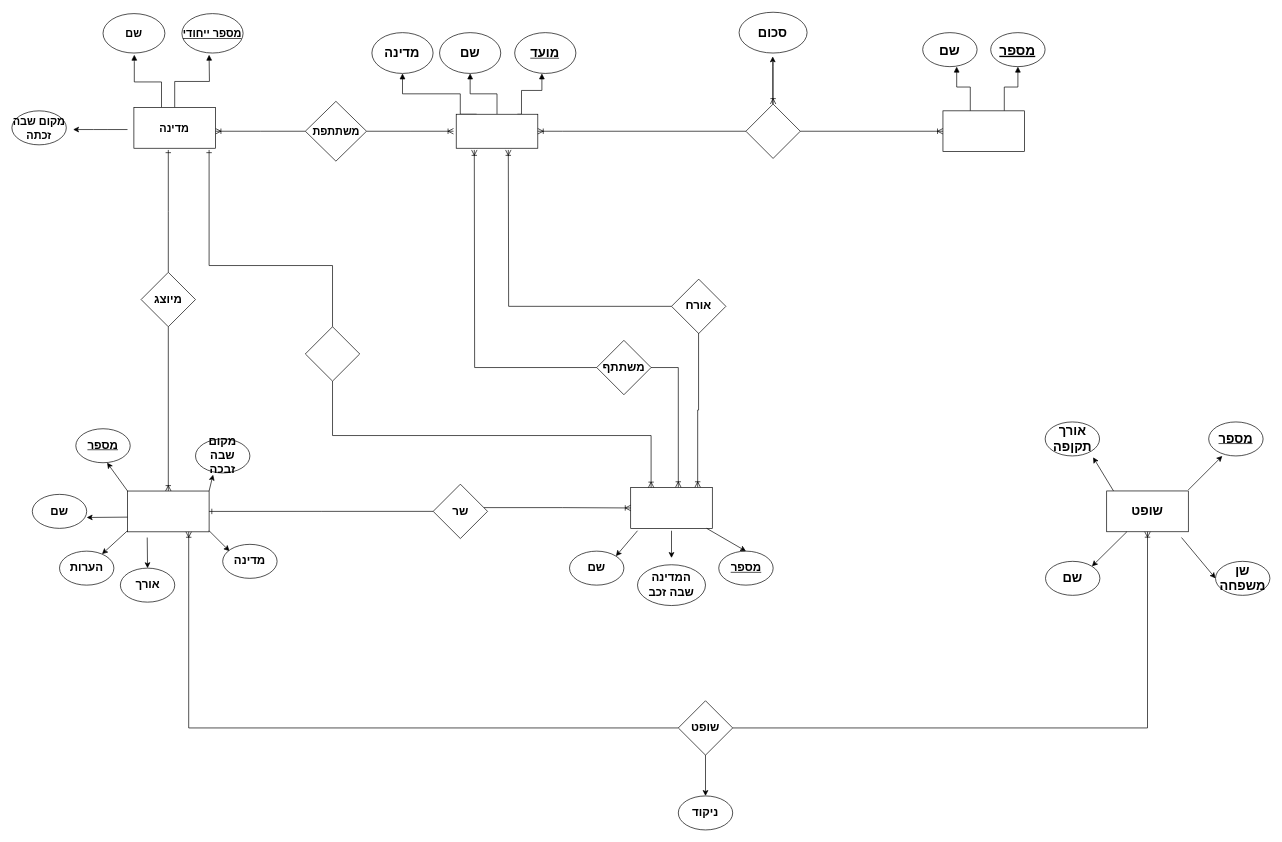
This 1282x842 diagram has some shape labels left out. The shapes that lost their labels are listed below. From the top down, each one's centre as x and y in pixels, then its label:
the point at 497,131: ארוויזון
the point at 772,130: תורם
the point at 983,131: ספונסר
the point at 332,353: מייצג
the point at 168,511: שיר
the point at 671,507: זמר
